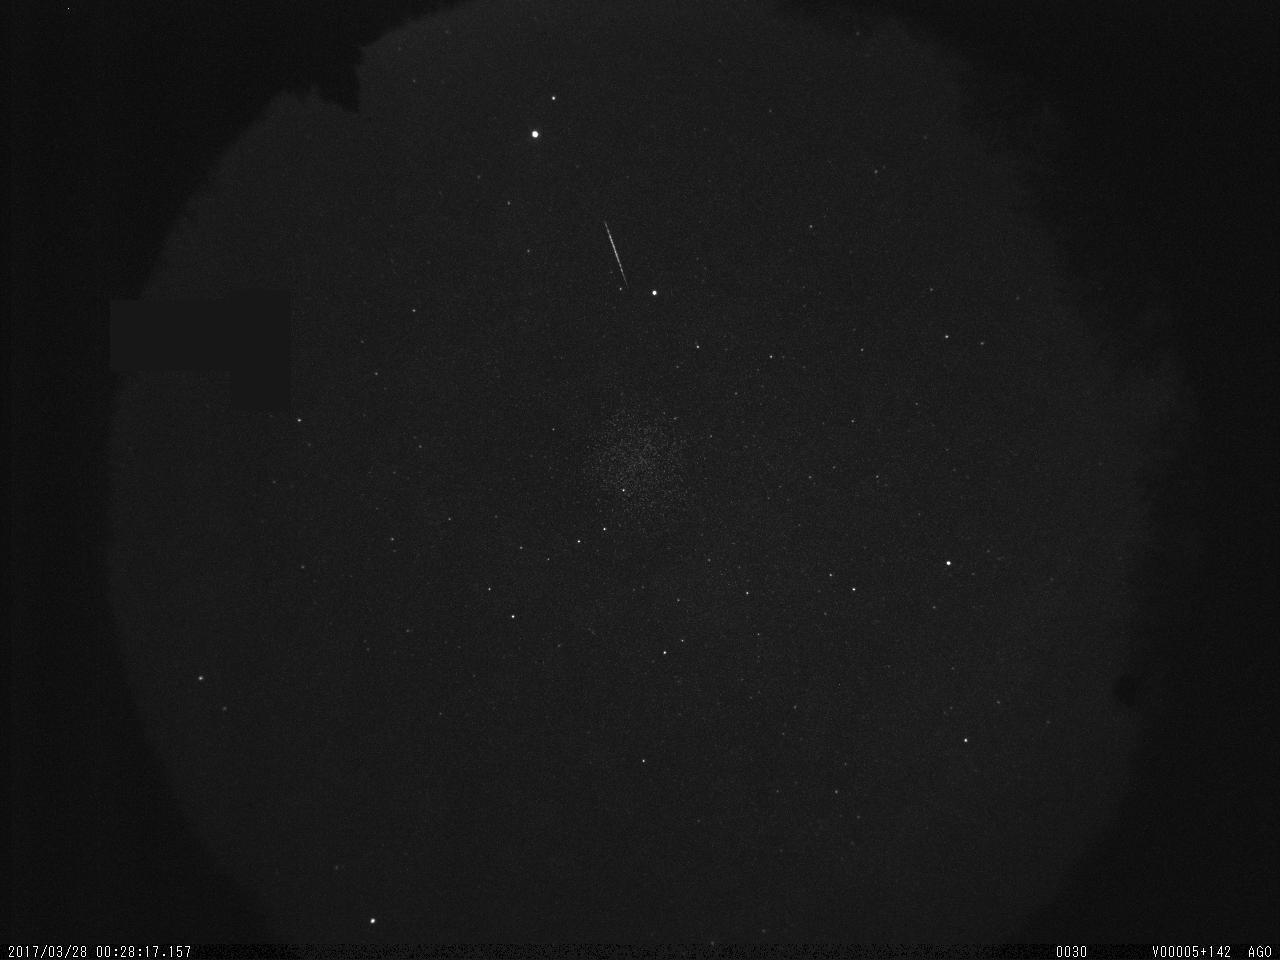Meteor: (600, 216, 639, 295)
